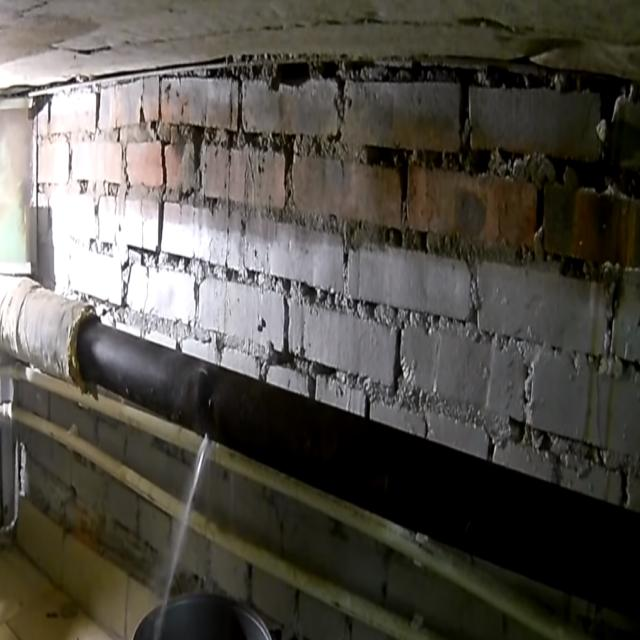leak: (154, 434, 211, 637)
